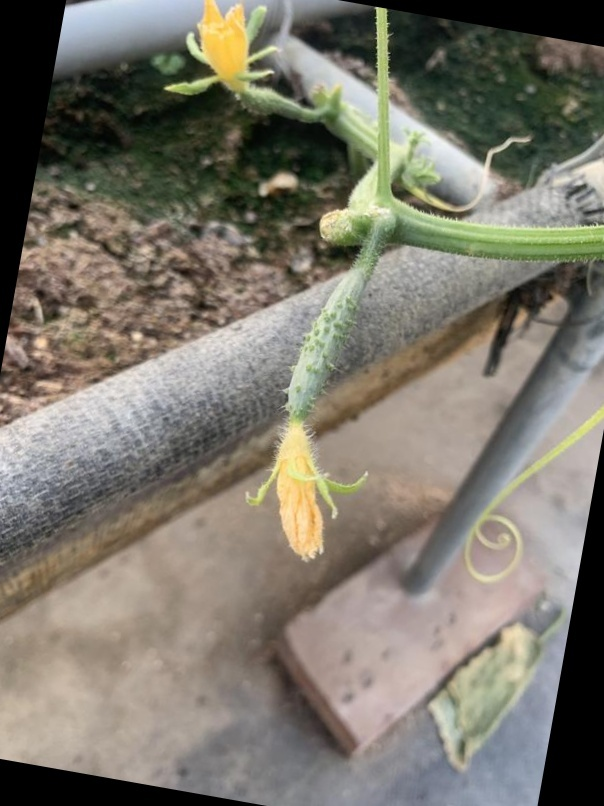bear: (236, 240, 384, 567), (170, 2, 310, 126)
